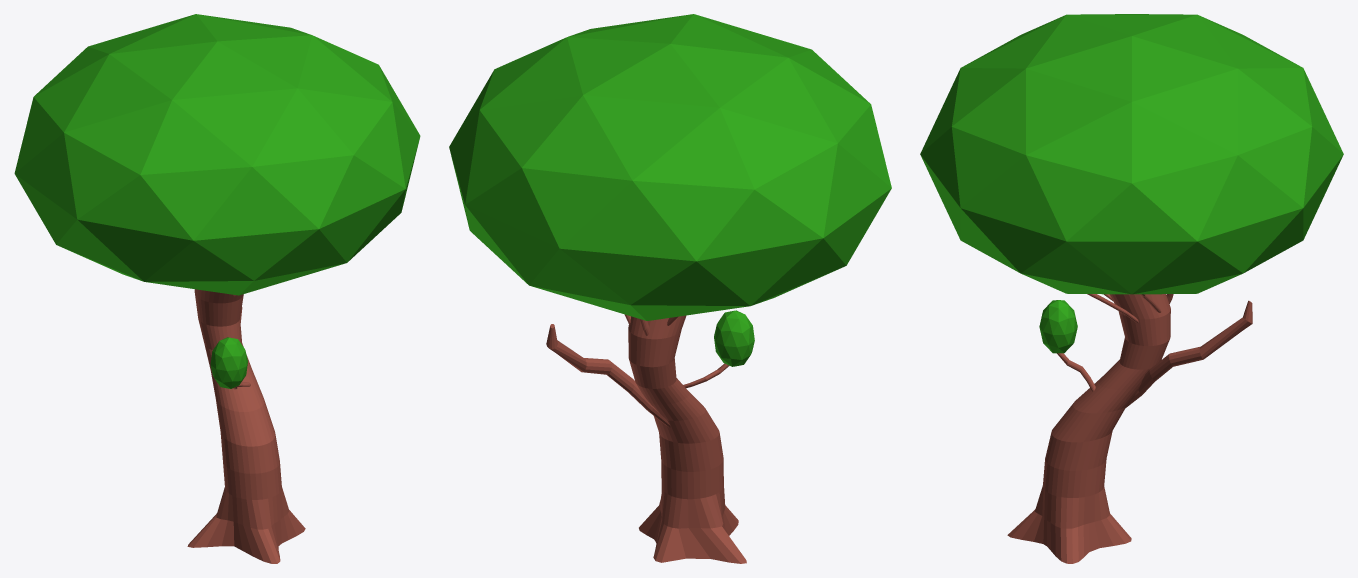
Rendered from Baum_1.fbx.
3 views of the same model, side by side, from view 1: azimuth 30°, elevation 25°; view 2: azimuth 150°, elevation 25°; view 3: azimuth 270°, elevation 25° (orthographic). The views are drawn at different scales.
Visible parts, largest first — view 1: Icosphere.002, Cylinder.002, Icosphere.005; view 2: Icosphere.002, Cylinder.002, Icosphere.005; view 3: Icosphere.002, Cylinder.002, Icosphere.005.
Boxes of the visible parts, <box> form: Icosphere.002: <box>14,14,420,295</box>; Cylinder.002: <box>187,289,305,563</box>; Icosphere.005: <box>210,337,247,388</box>; Icosphere.002: <box>449,14,891,320</box>; Cylinder.002: <box>546,314,746,563</box>; Icosphere.005: <box>714,310,754,366</box>; Icosphere.002: <box>920,14,1343,294</box>; Cylinder.002: <box>1007,294,1252,563</box>; Icosphere.005: <box>1039,300,1077,353</box>.
Bounding box in the file's own units: 465 × 619 × 477.
